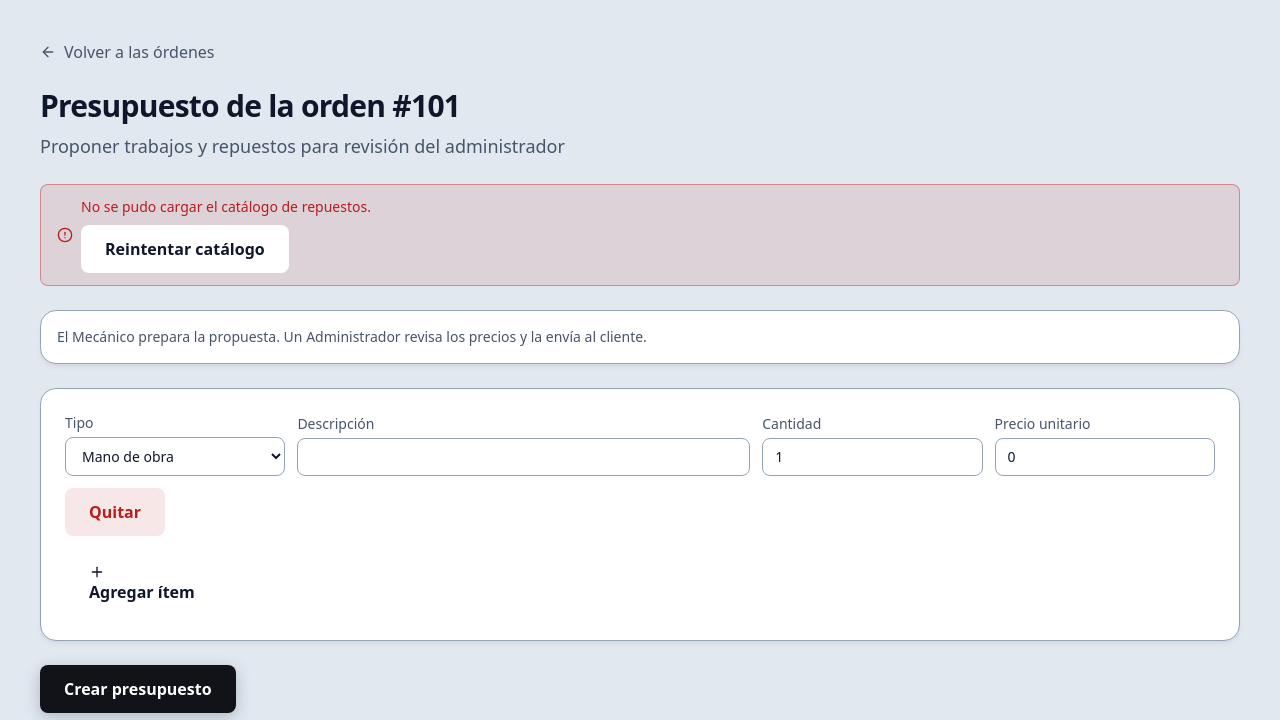
it: MechanicBudgetPage › avisa si falla el catálogo y permite reintentarlo
The width and height of the screenshot is (1280, 720).
expect the heading "Presupuesto de la orden #101" is shown: met, box 40,85 -> 460,126
expect the text "No se pudo cargar el catálogo de repuestos." is shown: met, box 81,197 -> 371,217
Click the button "Reintentar catálogo": (185, 249) 81,225 -> 289,273
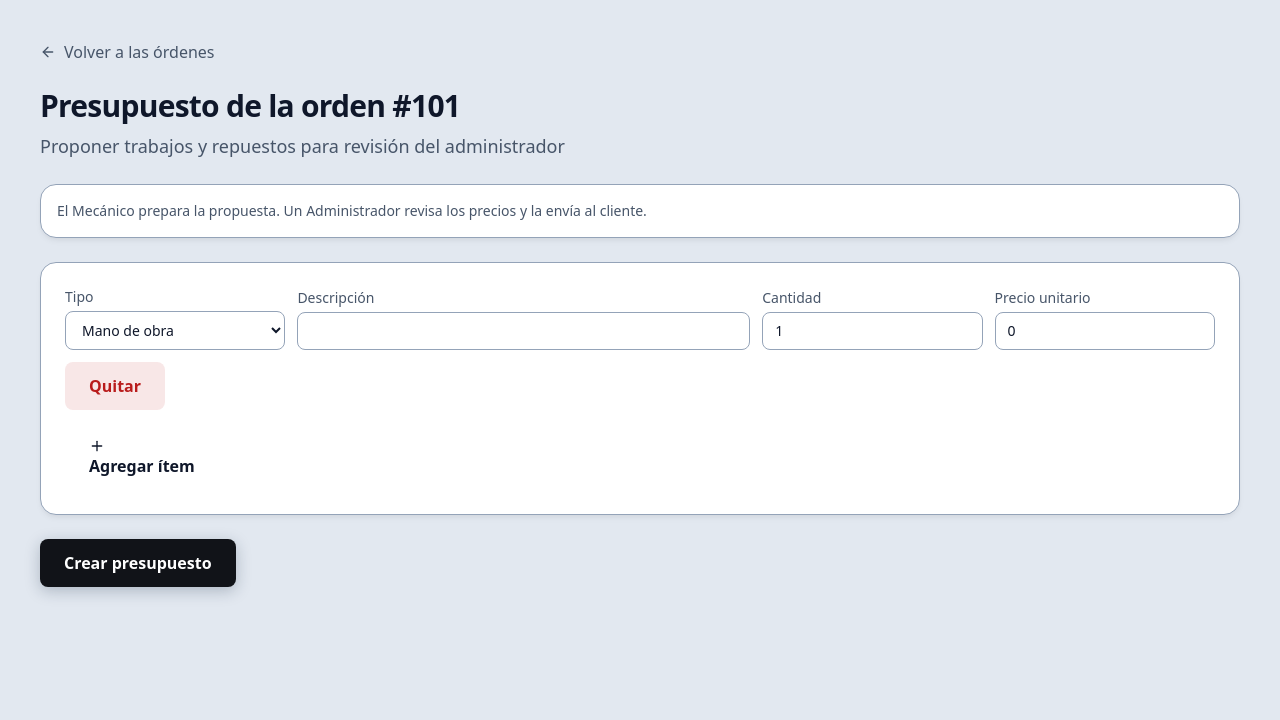
expect the text "No se pudo cargar el catálogo de repuestos." is gone: met
